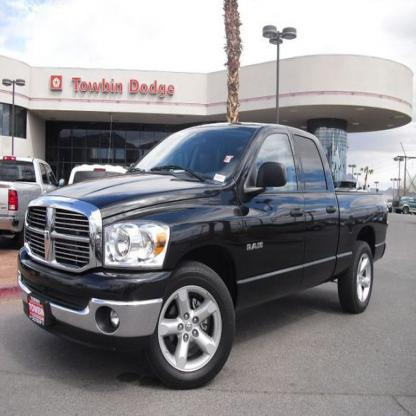Vehicle: (19, 122, 388, 390)
